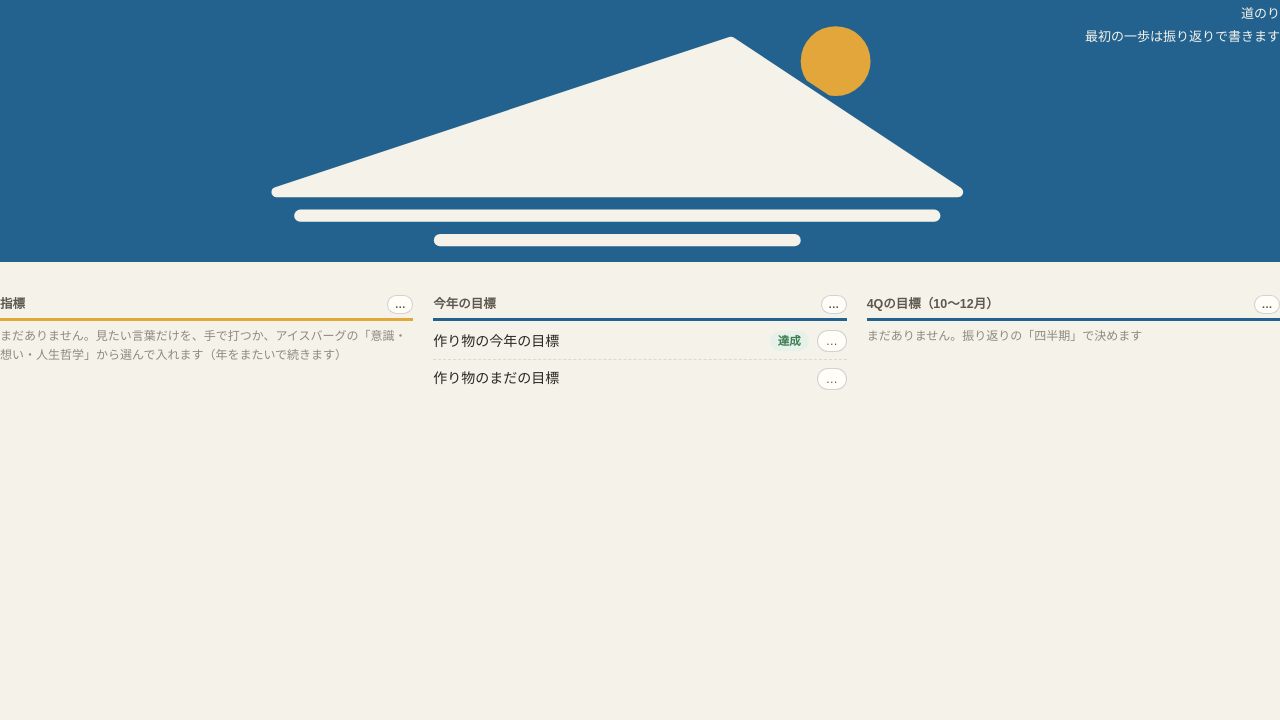
Test: ホームの画面 › 今年の目標：今年の分だけ出す。答え合わせは札だけ（ボタンは出さない）。ここからも足せる
Expected: the text "作り物の今年の目標" is shown, [433,333,559,349]
Expected: the text "作り物のまだの目標" is shown, [433,370,559,386]
Click the button named "今年の目標の操作": [834, 304] box [821,294,847,314]
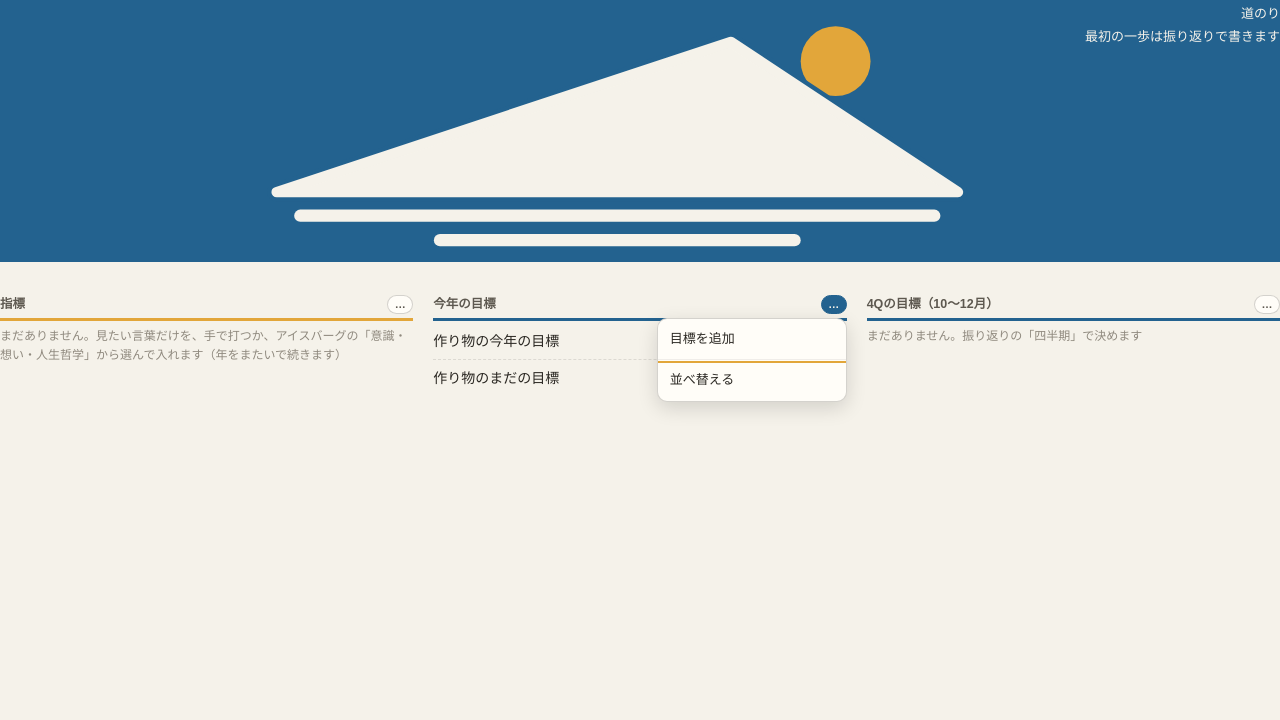
Click the menu item "目標を追加": [752, 339] box [658,318,846,359]
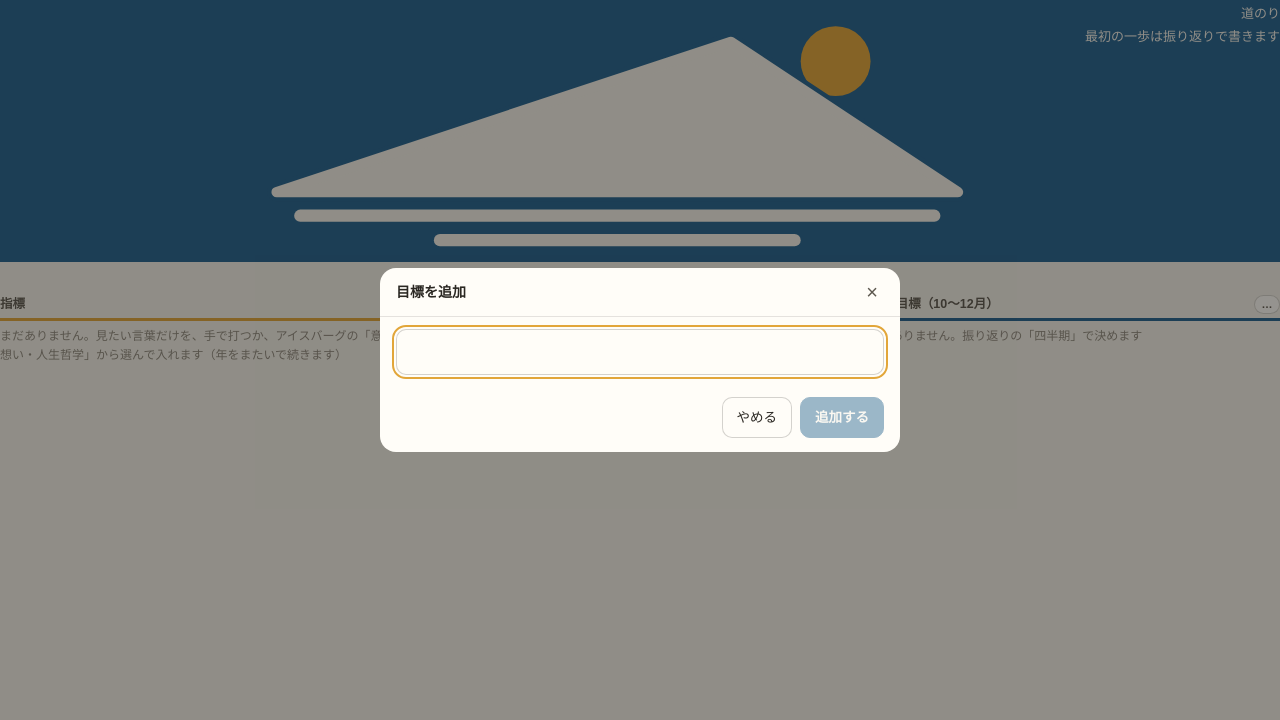
In the field: [640, 352] box [396,329,884,374], type "作り物の足した目標"
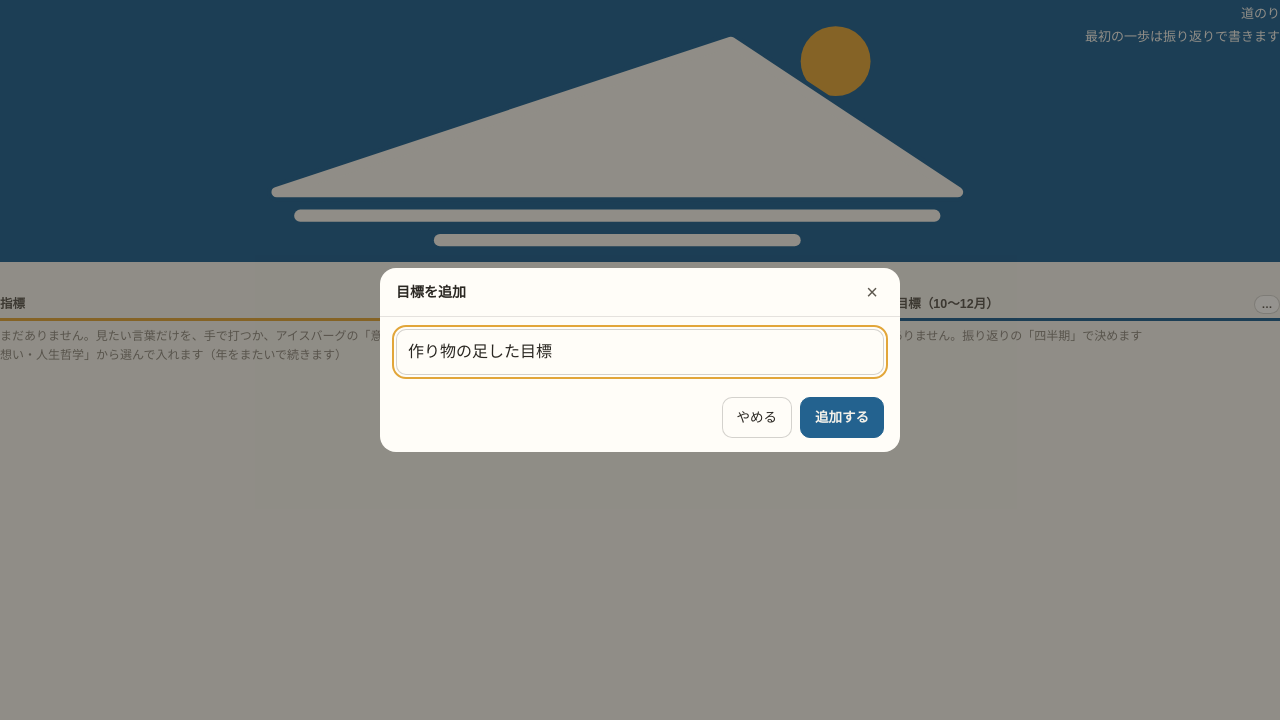
Click the button "追加する": [842, 417] box [800,396,884,438]
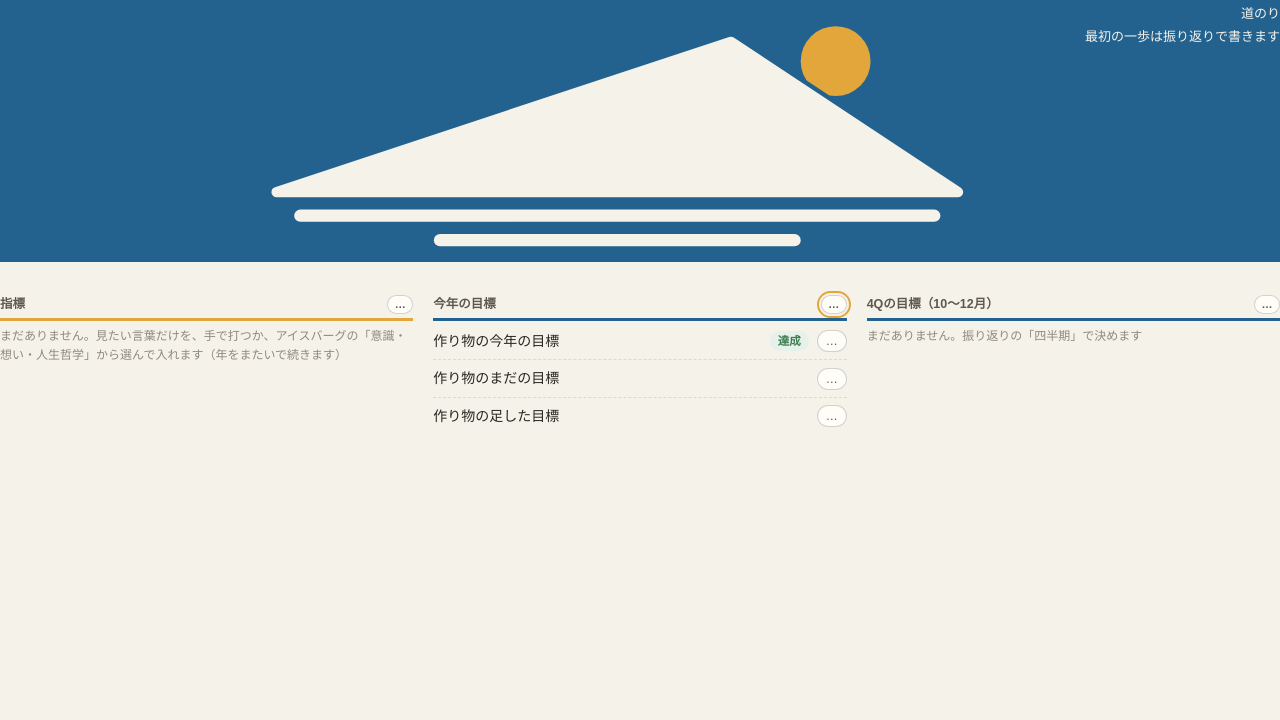
Expected: the text "作り物の足した目標" is shown, [433,408,559,424]
